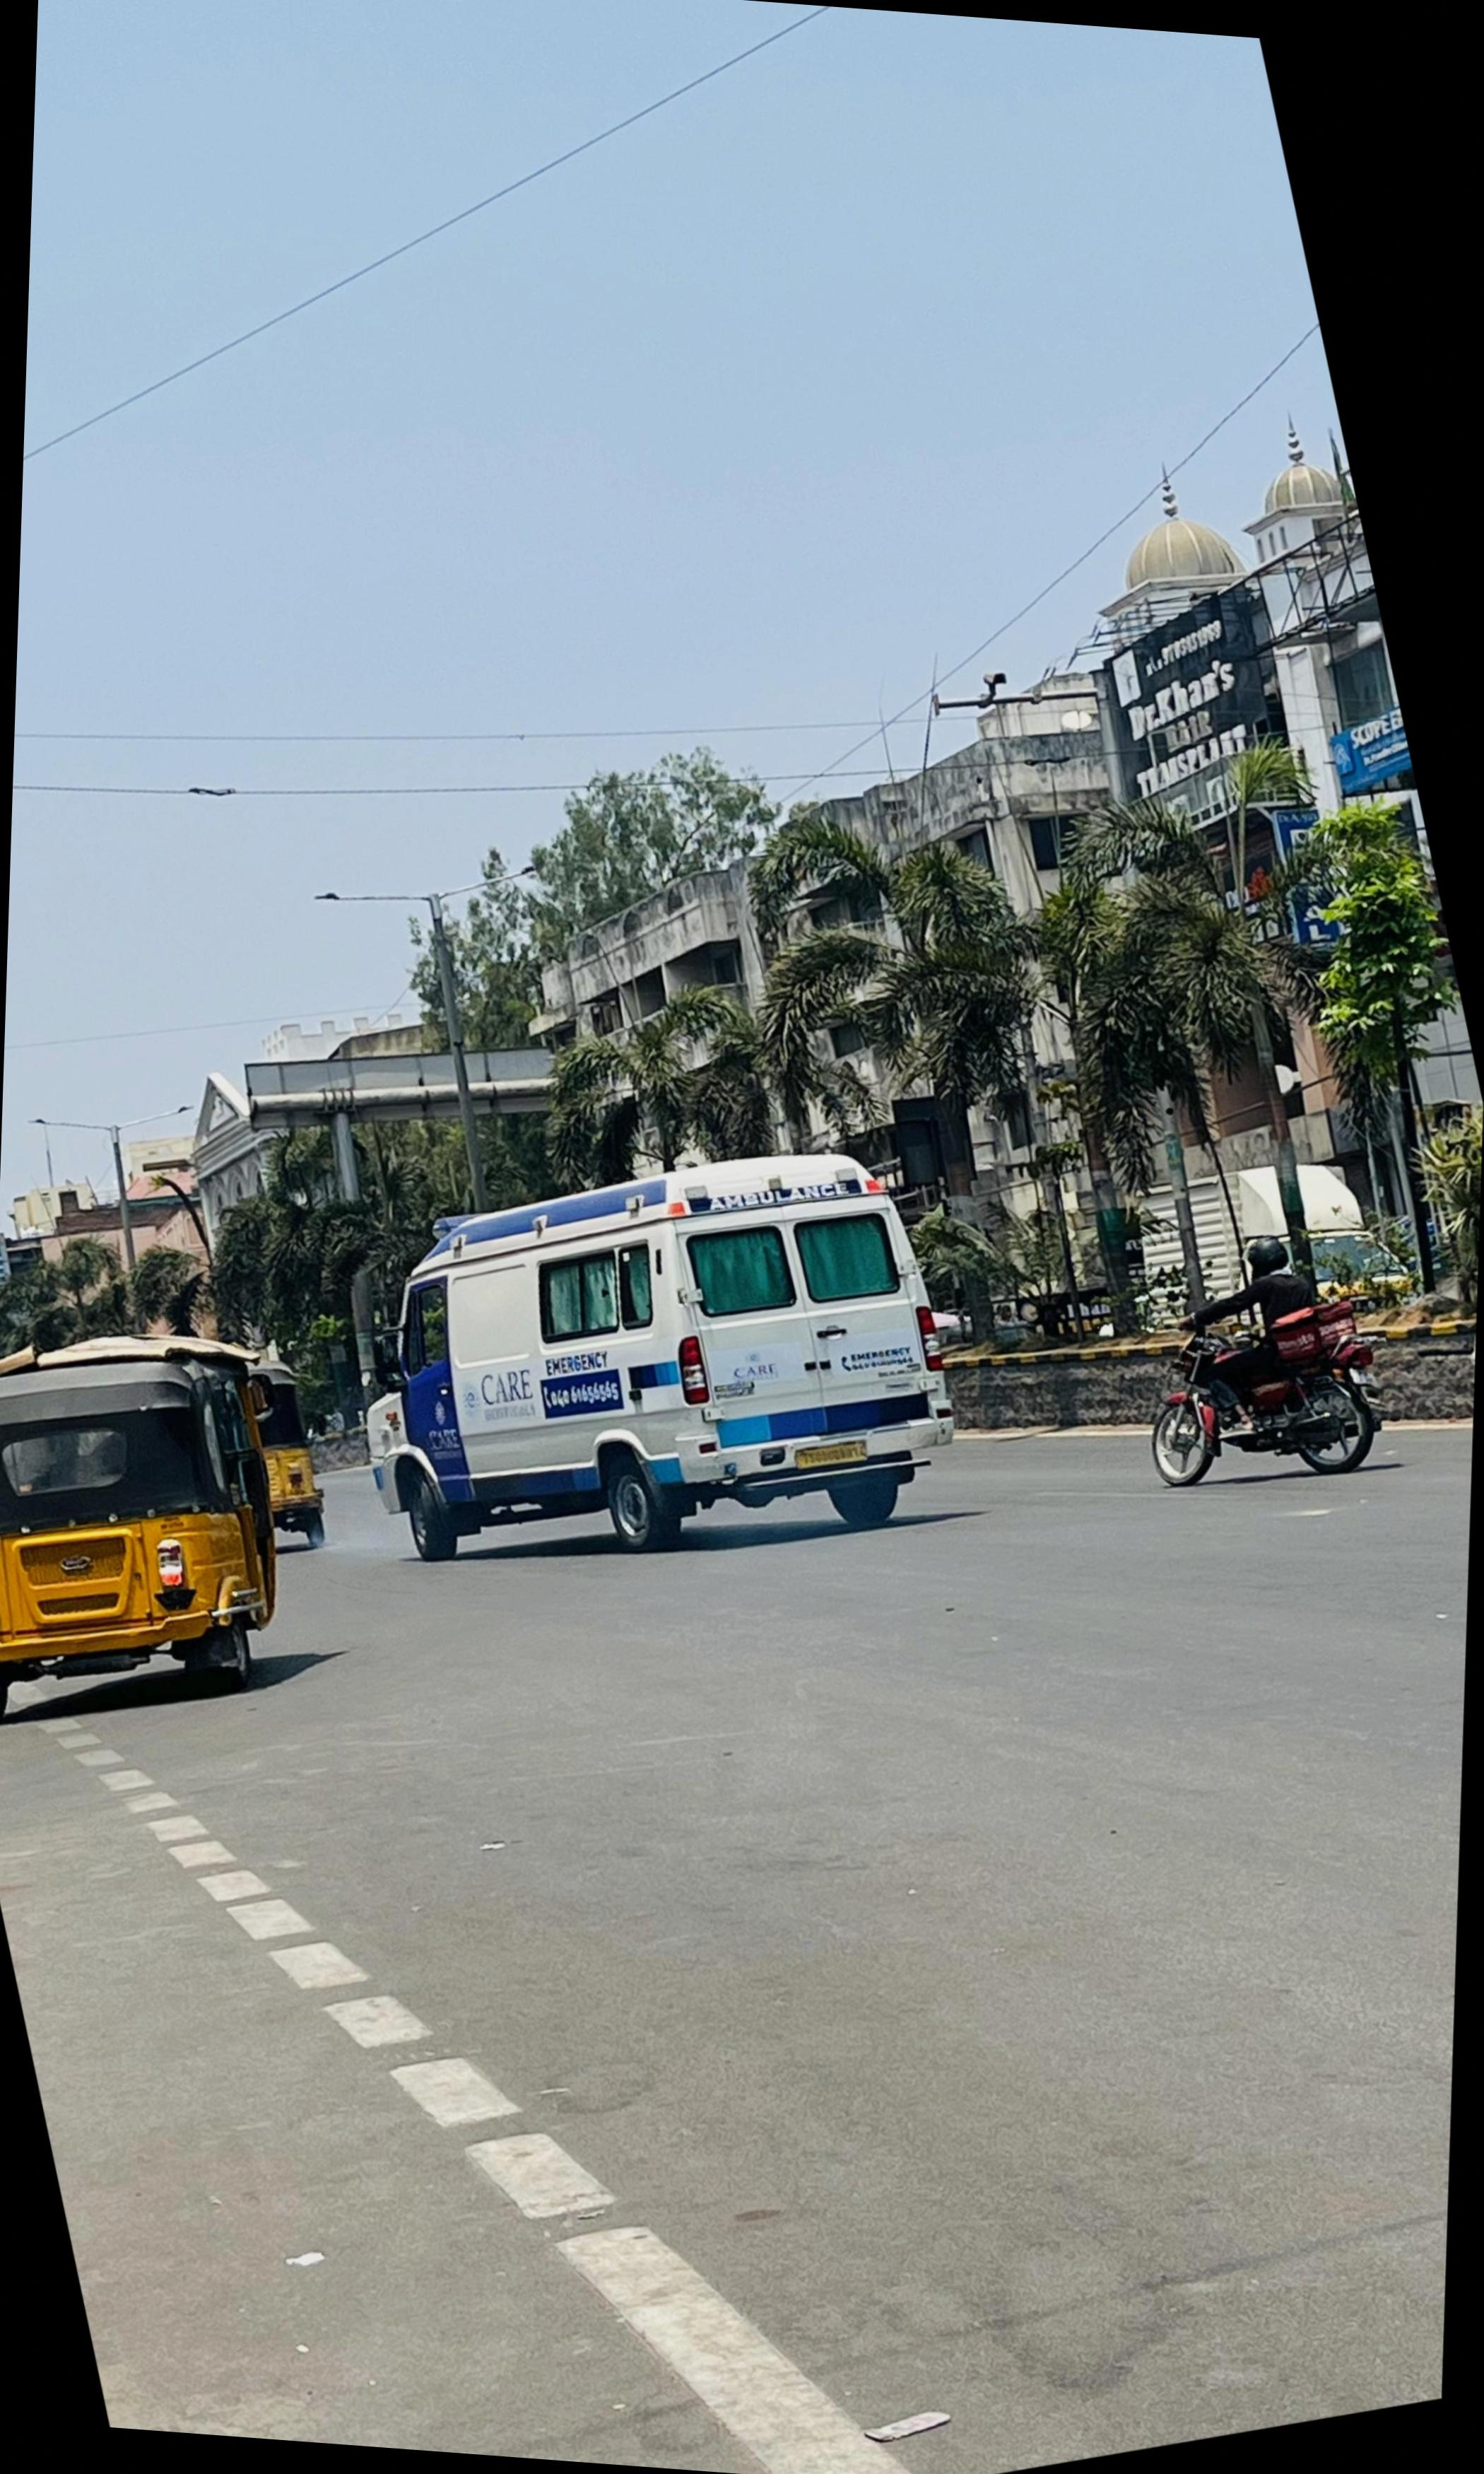ambulance: (375, 1152, 947, 1567)
